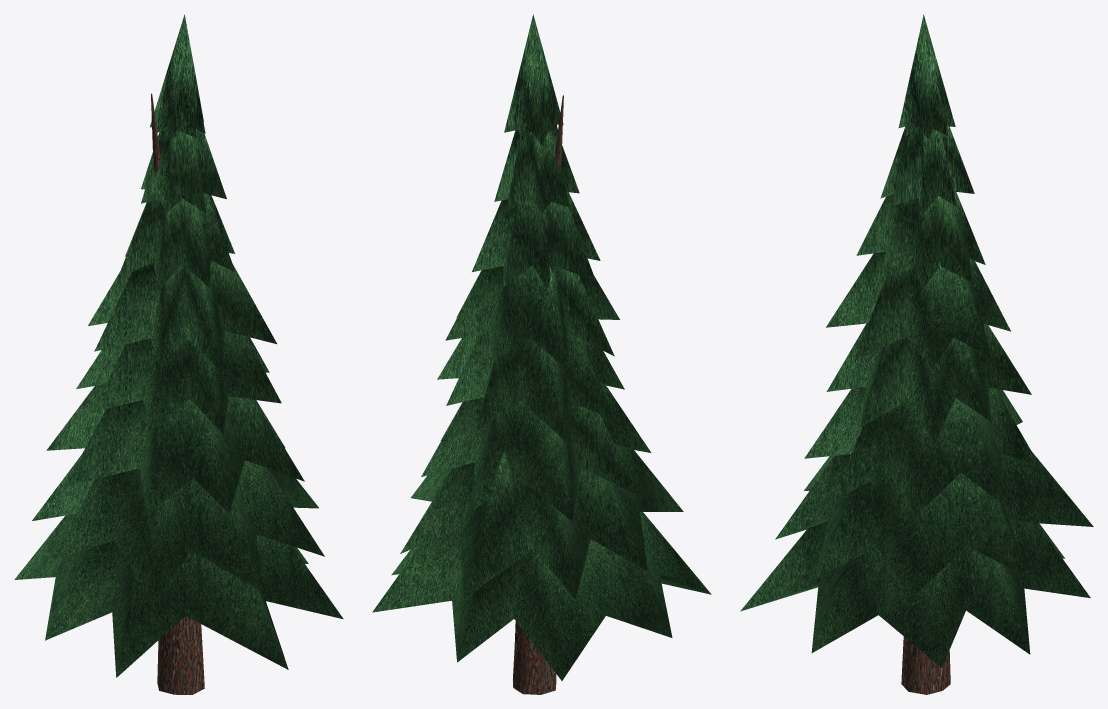
Rendered from pine_2.glb.
3 renders of one model, left to right at view 1: azimuth 30°, elevation 25°; view 2: azimuth 150°, elevation 25°; view 3: azimuth 270°, elevation 25°, orthographic.
Parts seen in each view (by area): view 1: pine_2; view 2: pine_2; view 3: pine_2.
Boxes of the visible parts, <box> form: pine_2: <box>14,14,343,694</box>; pine_2: <box>372,14,711,694</box>; pine_2: <box>740,14,1093,694</box>.
Bounding box in the file's own units: 4.73 × 11.11 × 5.31.
2 materials, 2 textured.
